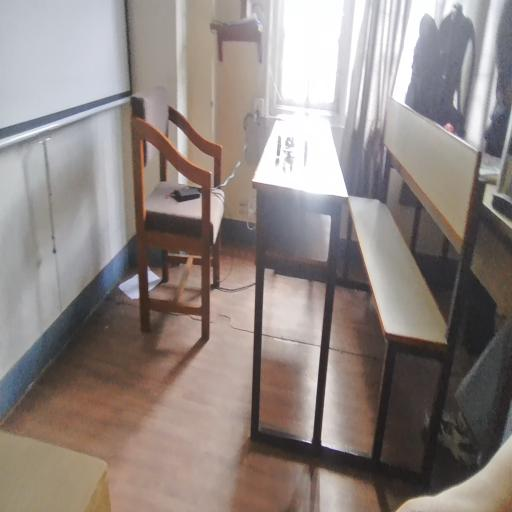car: (276, 126, 322, 190), (269, 110, 307, 185), (271, 114, 310, 163)
